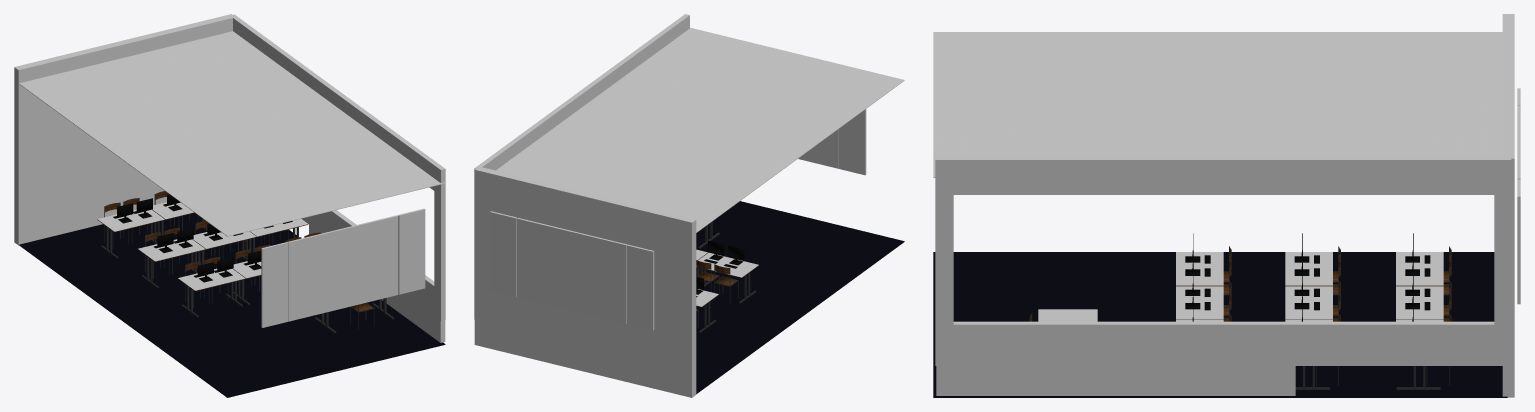
File: salle_classe_bas05.obj
3 renders of one model, left to right at view 1: azimuth 30°, elevation 25°; view 2: azimuth 150°, elevation 25°; view 3: azimuth 270°, elevation 25°, orthographic. The views are drawn at different scales.
Parts seen in each view (by area): view 1: plafond_classe.019; view 2: plafond_classe.019; view 3: plafond_classe.019.
Part boxes in pixels (x1,y1,x2,y2): plafond_classe.019: (14,14,445,397); plafond_classe.019: (474,14,904,397); plafond_classe.019: (933,14,1520,397).
Size of the model in its own units: 14.52 by 11.1 by 24.71.
6 materials, 3 textured.
